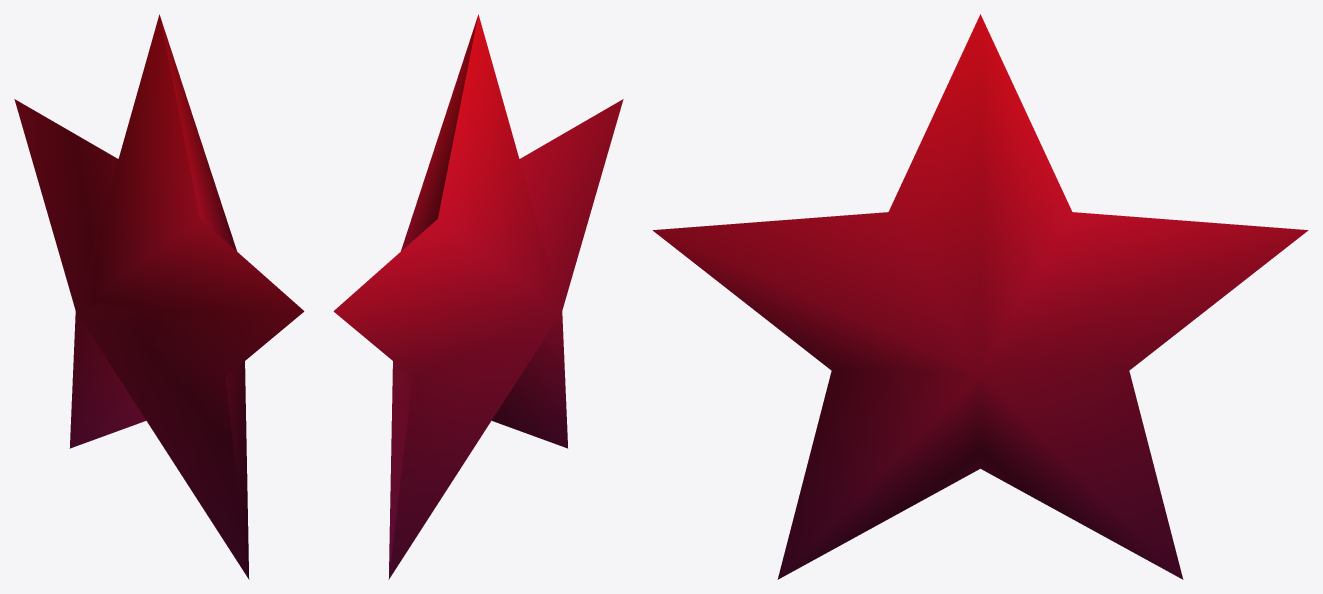
File: Star_1.fbx
3 renders of one model, left to right at view 1: azimuth 30°, elevation 25°; view 2: azimuth 150°, elevation 25°; view 3: azimuth 270°, elevation 25°, orthographic. The views are drawn at different scales.
Parts seen in each view (by area): view 1: Stars_1; view 2: Stars_1; view 3: Stars_1.
Part boxes in pixels (x1=…): Stars_1: x1=14, y1=14, x2=304, y2=579; Stars_1: x1=333, y1=14, x2=623, y2=579; Stars_1: x1=652, y1=14, x2=1308, y2=579.
Bounding box in the file's own units: 46.67 × 133 × 140.
